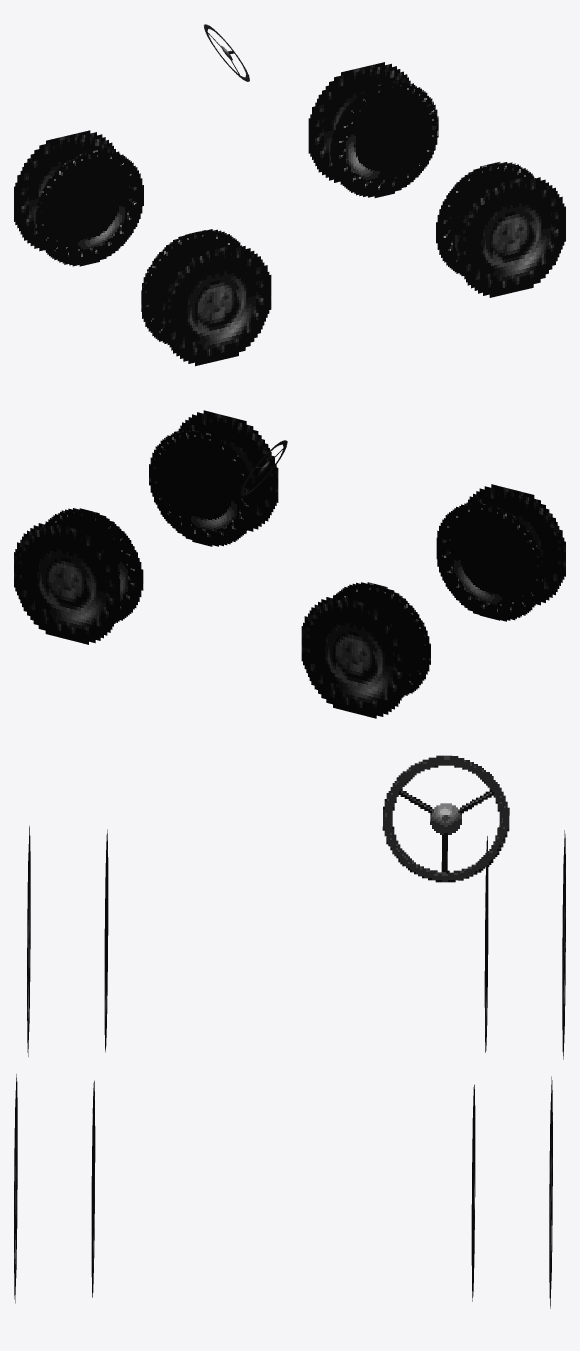
The model's file is military_jeep_secondary.glb.
The picture shows the model from 3 angles, top to bottom: view 1: azimuth 30°, elevation 25°; view 2: azimuth 150°, elevation 25°; view 3: azimuth 270°, elevation 25°; orthographic projection. The views are drawn at different scales.
Visible parts, largest first — view 1: Object; view 2: Object; view 3: Object.
Boxes of the visible parts, x1,y1,x2,y2 form: Object: (14, 24, 565, 366); Object: (14, 410, 565, 718); Object: (14, 755, 565, 1308).
Bounding box in the file's own units: 3.32 × 1.72 × 2.25.
Materials: 3 (3 with a texture image).
